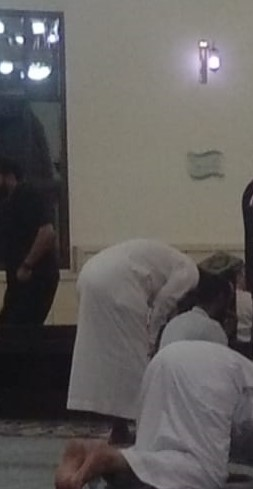ruku: (54, 224, 230, 425)
